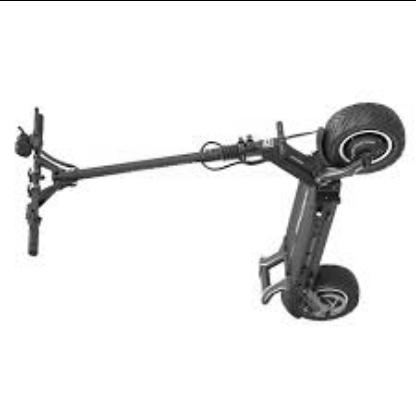bike: (13, 100, 407, 323)
